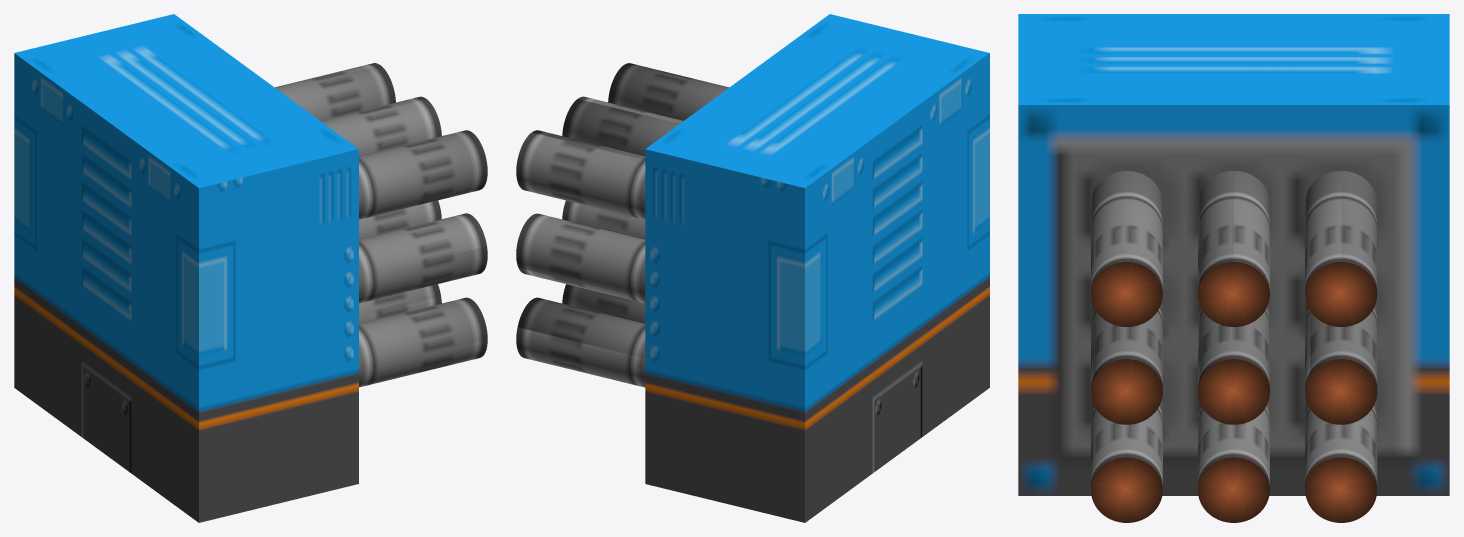
File: roller3p.obj
3 views of the same model, side by side, from view 1: azimuth 30°, elevation 25°; view 2: azimuth 150°, elevation 25°; view 3: azimuth 270°, elevation 25° (orthographic). The views are drawn at different scales.
Parts seen in each view (by area): view 1: ColobotMesh_1.002_ColobotMesh_.002, ColobotMesh_1.001_ColobotMesh_.001, ColobotMesh_1_ColobotMesh_; view 2: ColobotMesh_1.002_ColobotMesh_.002, ColobotMesh_1_ColobotMesh_, ColobotMesh_1.001_ColobotMesh_.001; view 3: ColobotMesh_1.002_ColobotMesh_.002, ColobotMesh_1.001_ColobotMesh_.001, ColobotMesh_1_ColobotMesh_.
Part boxes in pixels (x1=…): ColobotMesh_1.002_ColobotMesh_.002: x1=14, y1=14, x2=358, y2=522; ColobotMesh_1.001_ColobotMesh_.001: x1=278, y1=65, x2=487, y2=370; ColobotMesh_1_ColobotMesh_: x1=275, y1=63, x2=487, y2=387; ColobotMesh_1.002_ColobotMesh_.002: x1=645, y1=14, x2=989, y2=522; ColobotMesh_1_ColobotMesh_: x1=516, y1=96, x2=682, y2=387; ColobotMesh_1.001_ColobotMesh_.001: x1=517, y1=63, x2=728, y2=357; ColobotMesh_1.002_ColobotMesh_.002: x1=1018, y1=14, x2=1449, y2=495; ColobotMesh_1.001_ColobotMesh_.001: x1=1091, y1=171, x2=1376, y2=522; ColobotMesh_1_ColobotMesh_: x1=1091, y1=171, x2=1377, y2=522.
Size of the model in its own units: 6 by 6 by 6.
